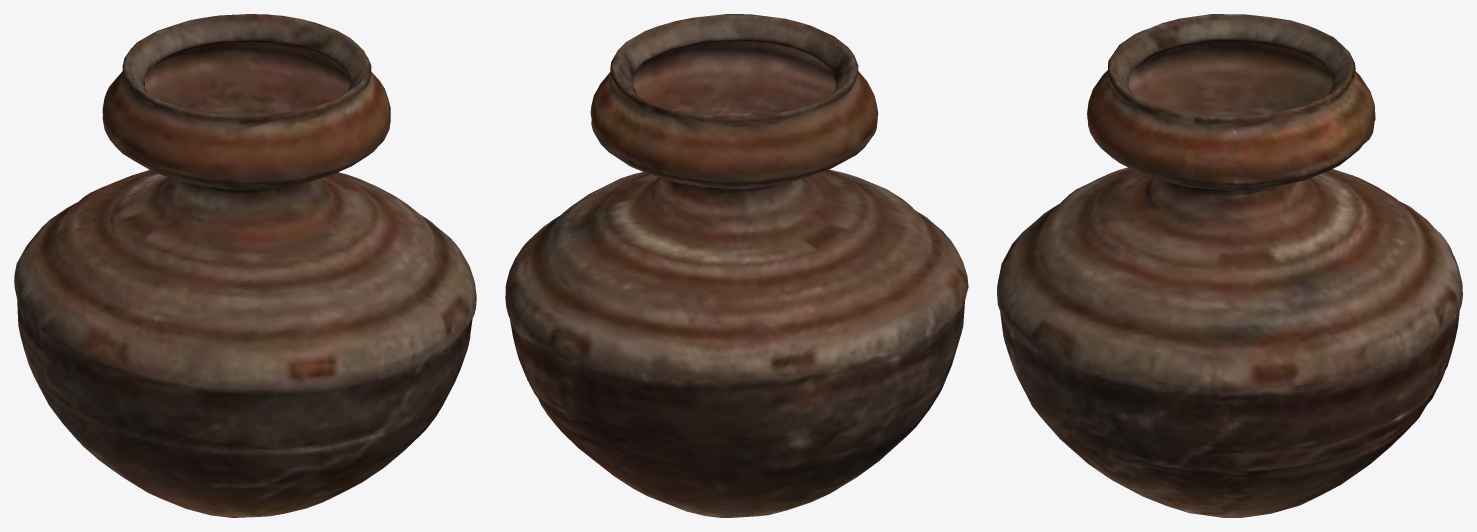
Rendered from cma-nupe-water-transport-jar.lod1.glb.
3 renders of one model, left to right at view 1: azimuth 30°, elevation 25°; view 2: azimuth 150°, elevation 25°; view 3: azimuth 270°, elevation 25°, orthographic.
Parts seen in each view (by area): view 1: 1995.210_jar; view 2: 1995.210_jar; view 3: 1995.210_jar.
Boxes of the visible parts, <box> form: 1995.210_jar: <box>14,14,476,517</box>; 1995.210_jar: <box>505,14,968,517</box>; 1995.210_jar: <box>997,14,1462,517</box>.
Bounding box in the file's own units: 0.3552 × 0.3688 × 0.3573.
Materials: 1 (1 with a texture image).
